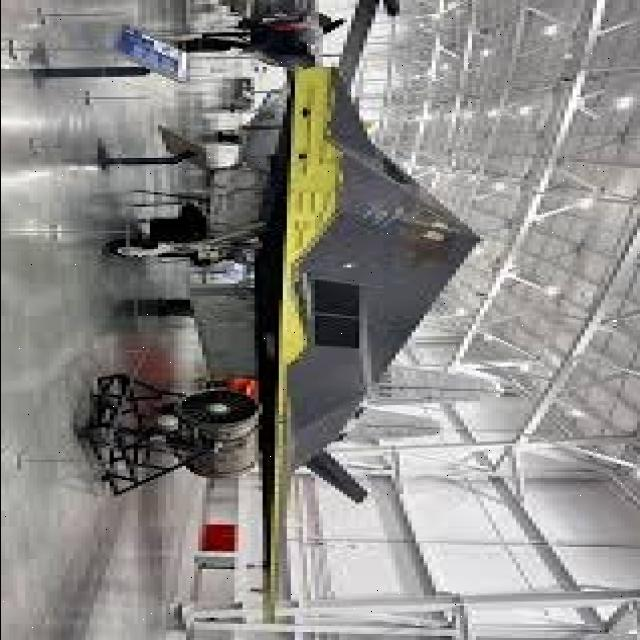F117: (45, 41, 515, 622)
